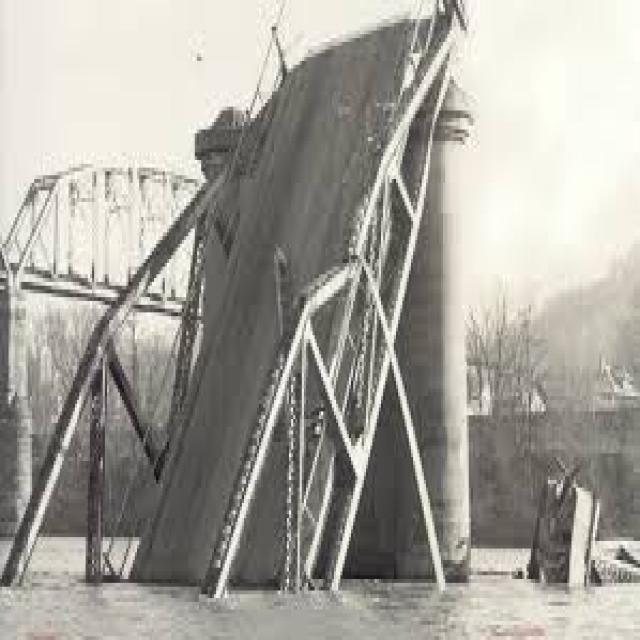bridge collapse: (24, 0, 564, 640)
